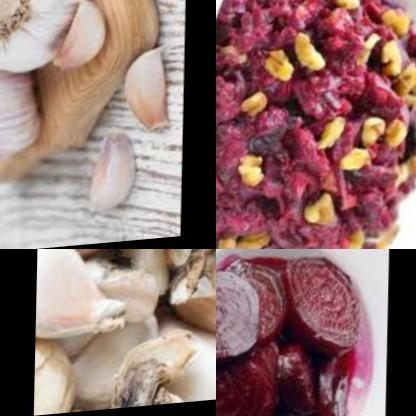beet: (216, 249, 377, 416), (248, 53, 383, 133), (221, 0, 350, 64), (216, 127, 282, 249), (259, 118, 331, 211), (287, 211, 388, 249), (371, 135, 413, 200), (216, 61, 253, 127), (347, 0, 389, 49)
garlic: (35, 249, 216, 416), (0, 0, 90, 82), (75, 141, 143, 228), (49, 0, 116, 85), (0, 49, 40, 183), (126, 53, 179, 153)
